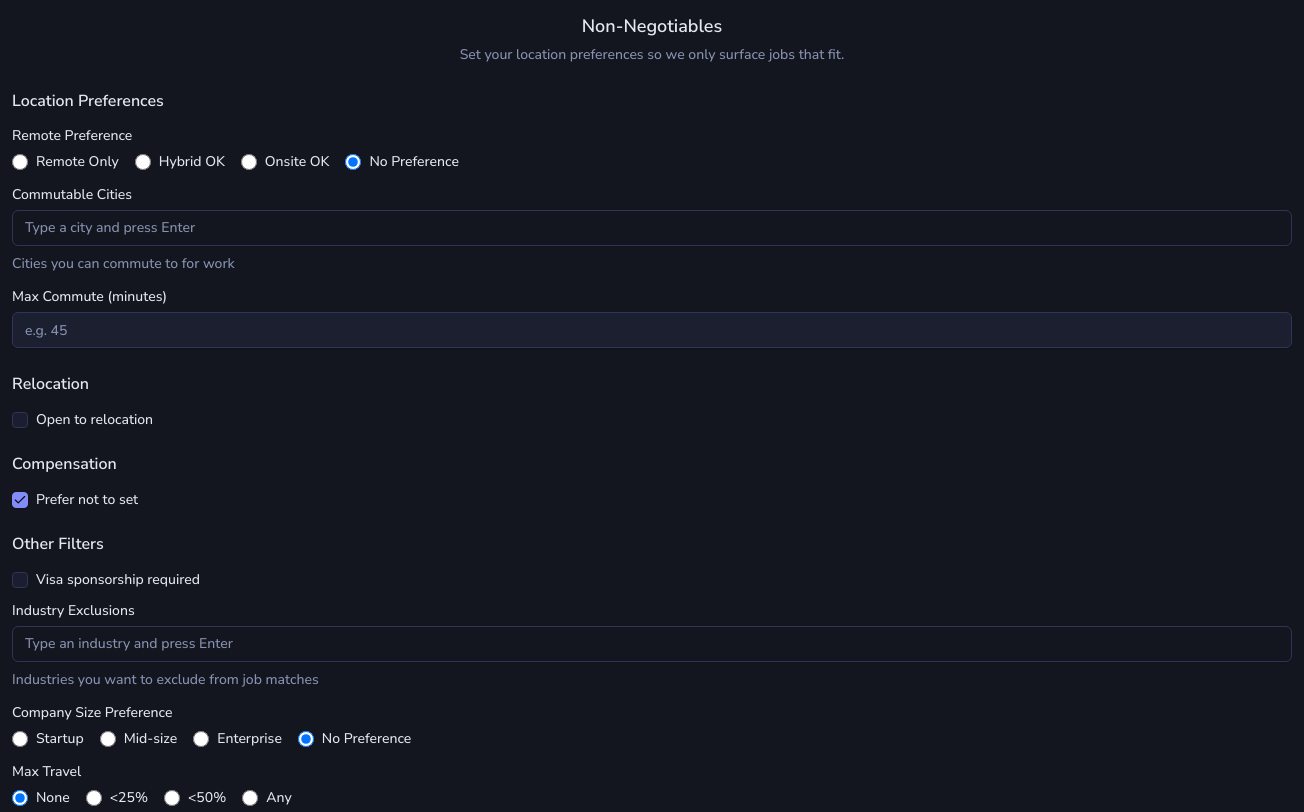
Test: NonNegotiablesStep › conditional field visibility › shows relocation cities when relocation toggle is checked
The image size is (1304, 812).
Click the checkbox named "open to relocation" next to "Open to relocation": (20, 420) [12,412,28,428]
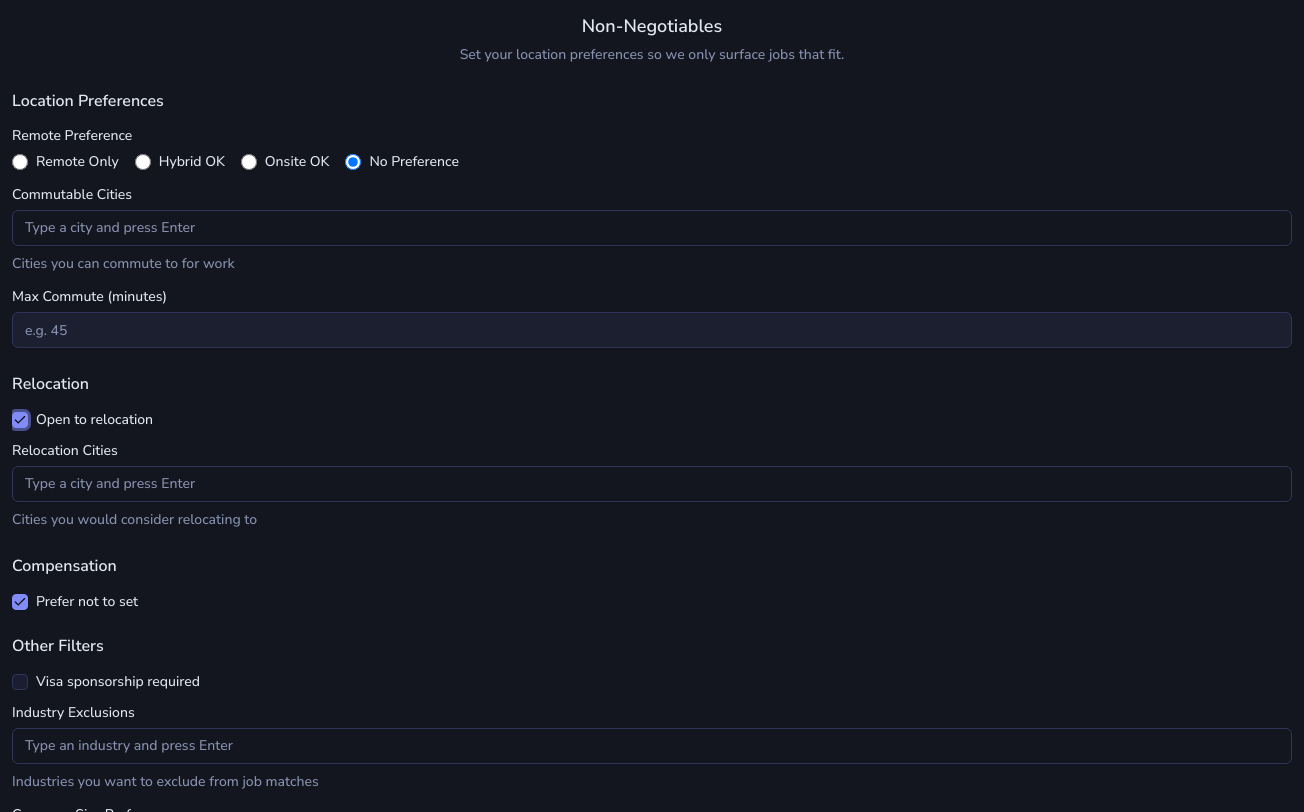
Now the field labelled "Relocation Cities" is shown, box [25,474,1279,494]
